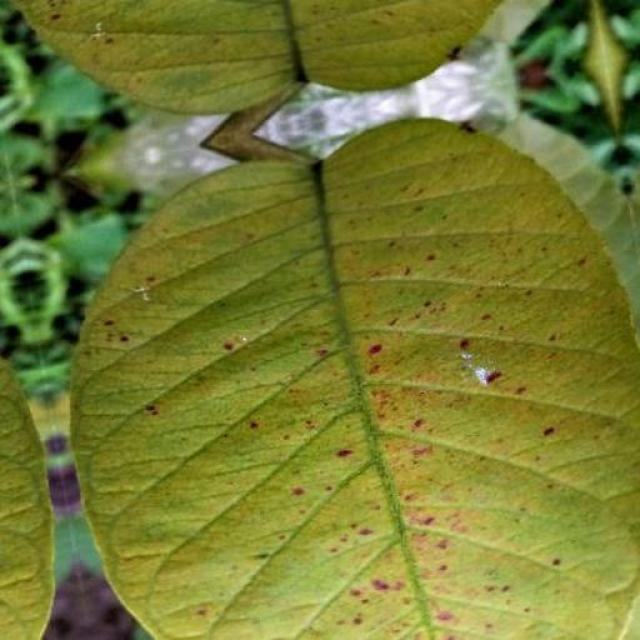Rust: (21, 0, 640, 639)
